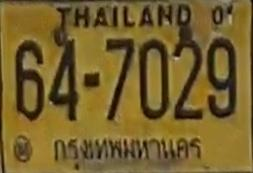0: (138, 38, 168, 119)
2: (172, 41, 202, 119)
4: (48, 40, 77, 120)
6: (14, 40, 43, 120)
7: (104, 38, 134, 118)
9: (206, 37, 235, 117)
BKK: (48, 131, 206, 172)
